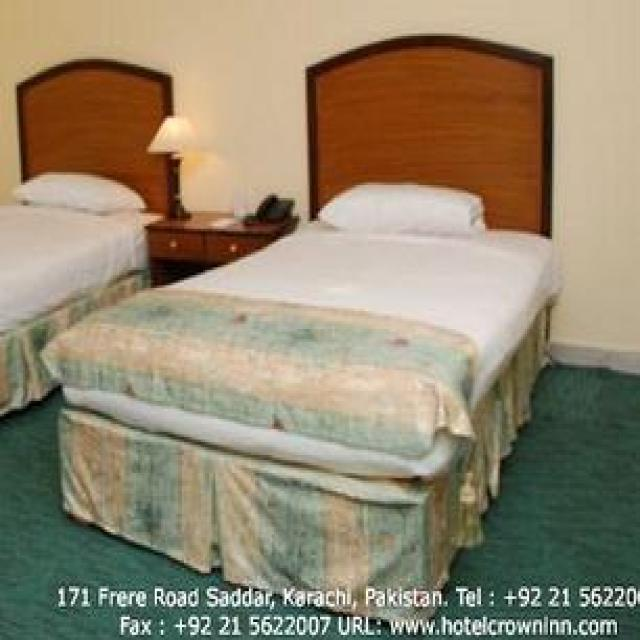bed: (39, 31, 560, 624), (0, 56, 176, 432)
